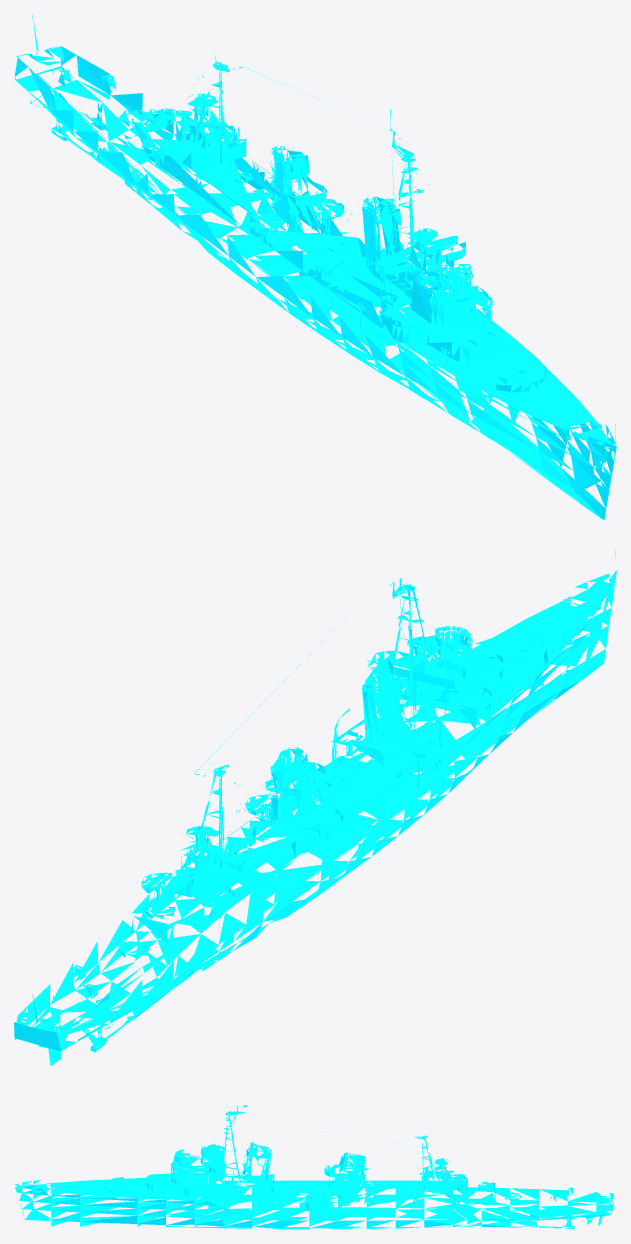
The model's file is Zorky.glb.
3 renders of one model, top to bottom at view 1: azimuth 30°, elevation 25°; view 2: azimuth 150°, elevation 25°; view 3: azimuth 270°, elevation 25°, orthographic. The views are drawn at different scales.
Bounding box in the file's own units: 0.9613 × 2.26 × 9.39.
